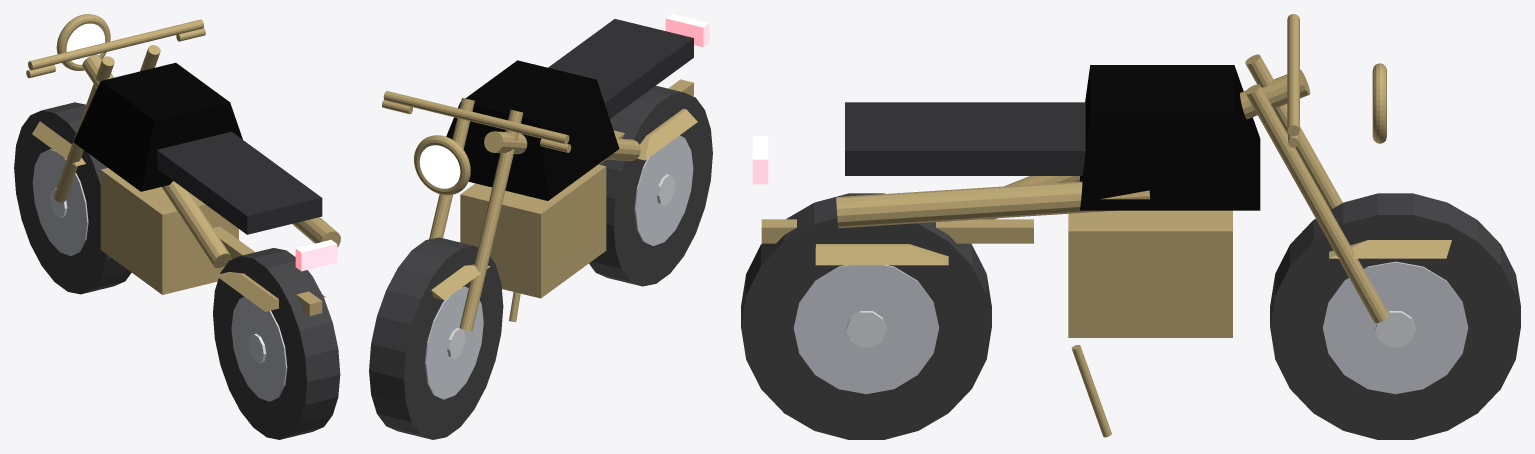
Rendered from cafe-racer.glb.
3 views of the same model, side by side, from view 1: azimuth 30°, elevation 25°; view 2: azimuth 150°, elevation 25°; view 3: azimuth 270°, elevation 25° (orthographic). The views are drawn at different scales.
Parts seen in each view (by area): view 1: Trim, WheelR, Body, WheelF, Seat, LightRear, LightFront; view 2: Trim, WheelF, WheelR, Body, Seat, LightFront, LightRear; view 3: Trim, WheelF, WheelR, Body, Seat, LightRear.
Boxes of the visible parts, box(x1,y1,x2,y2) form: Trim: box(26, 14, 340, 315); WheelR: box(213, 248, 340, 439); Body: box(73, 62, 242, 191); WheelF: box(14, 102, 131, 294); Seat: box(156, 131, 322, 234); LightRear: box(295, 240, 337, 271); LightFront: box(66, 23, 104, 64); Trim: box(382, 79, 697, 331); WheelF: box(369, 237, 503, 439); WheelR: box(589, 85, 712, 286); Body: box(446, 60, 619, 200); Seat: box(548, 19, 693, 118); LightFront: box(419, 145, 460, 188); LightRear: box(665, 14, 709, 47); Trim: box(761, 14, 1451, 437); WheelF: box(1270, 193, 1520, 439); WheelR: box(741, 193, 991, 439); Body: box(1080, 65, 1260, 210); Seat: box(845, 102, 1085, 175); LightRear: box(752, 136, 768, 184).
Size of the model in its own units: 0.688 by 1.02 by 1.99.
Materials: 6 (1 with a texture image).
